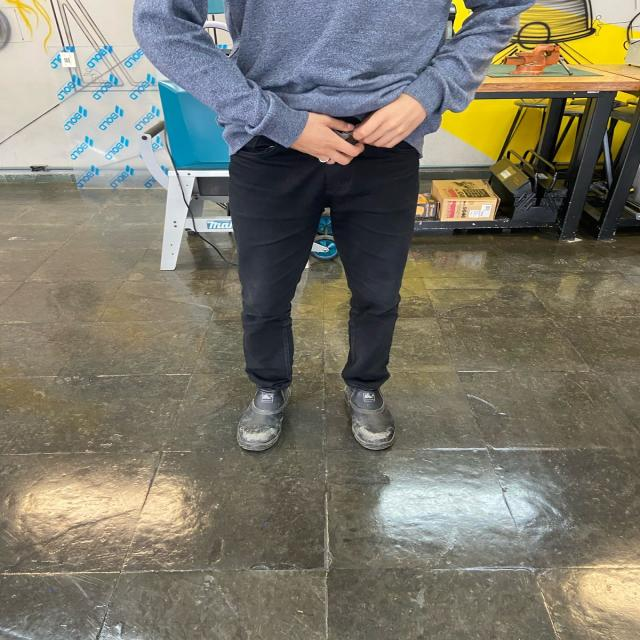BOTA: (344, 376, 401, 453), (236, 378, 294, 452)
SEM LUVA: (350, 92, 432, 150), (286, 110, 366, 167)
